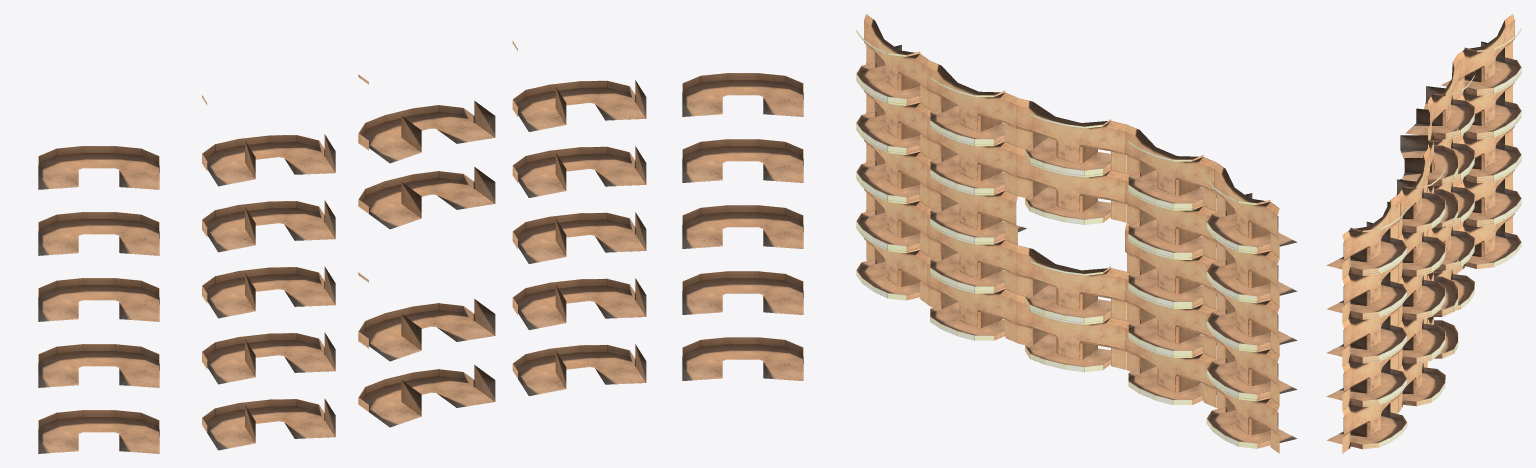
File: OutdoorFacade_mesh.glb
3 views of the same model, side by side, from view 1: azimuth 30°, elevation 25°; view 2: azimuth 150°, elevation 25°; view 3: azimuth 270°, elevation 25° (orthographic). The views are drawn at different scales.
Visible parts, largest first — view 1: OutdoorFacade_mesh; view 2: OutdoorFacade_mesh; view 3: OutdoorFacade_mesh.
Boxes of the visible parts, bbox=[...] form: OutdoorFacade_mesh: bbox=[38, 41, 803, 453]; OutdoorFacade_mesh: bbox=[856, 14, 1297, 453]; OutdoorFacade_mesh: bbox=[1326, 14, 1521, 453].
Bounding box in the file's own units: 97.93 × 45.37 × 36.44.
1 material, 1 textured.
